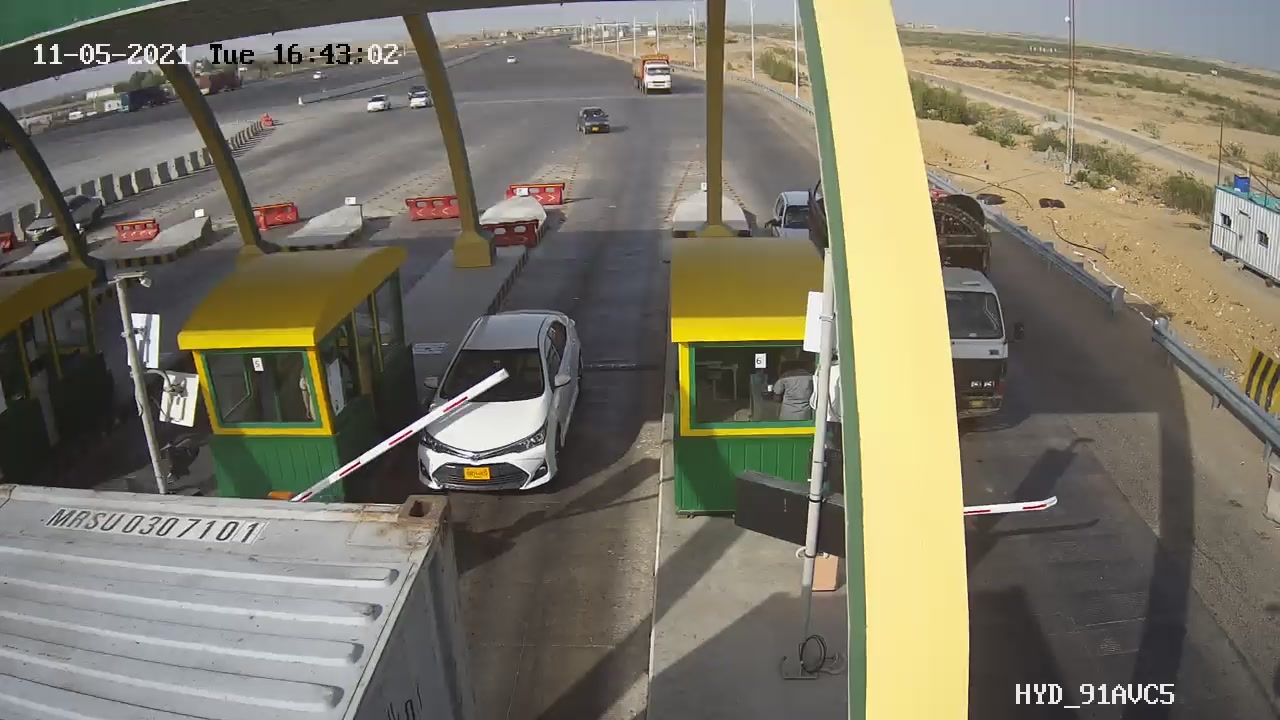F1: (397, 295, 603, 519)
